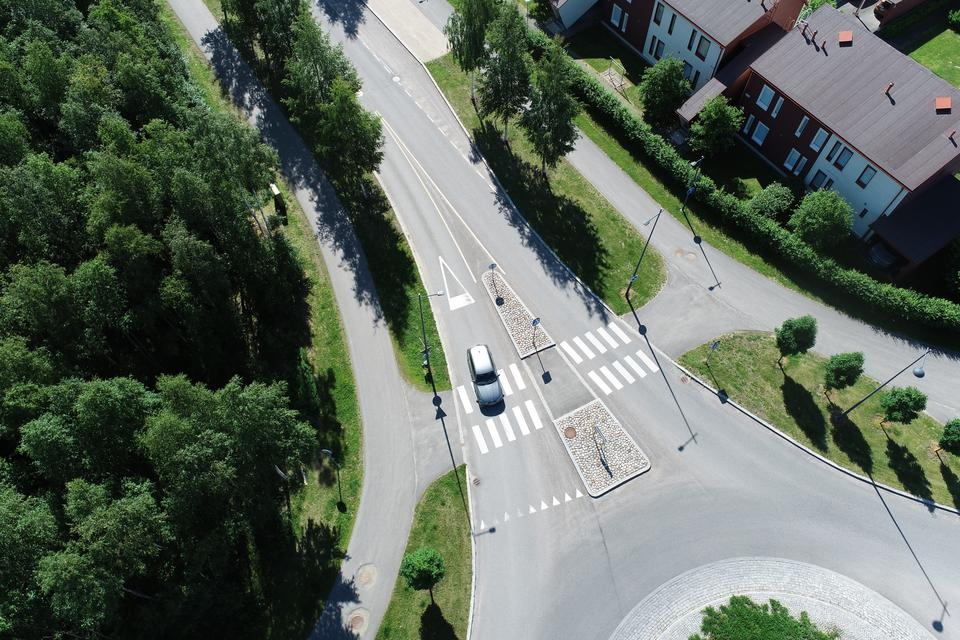intersection: (316, 291, 845, 473)
roundabout: (432, 510, 960, 640)
